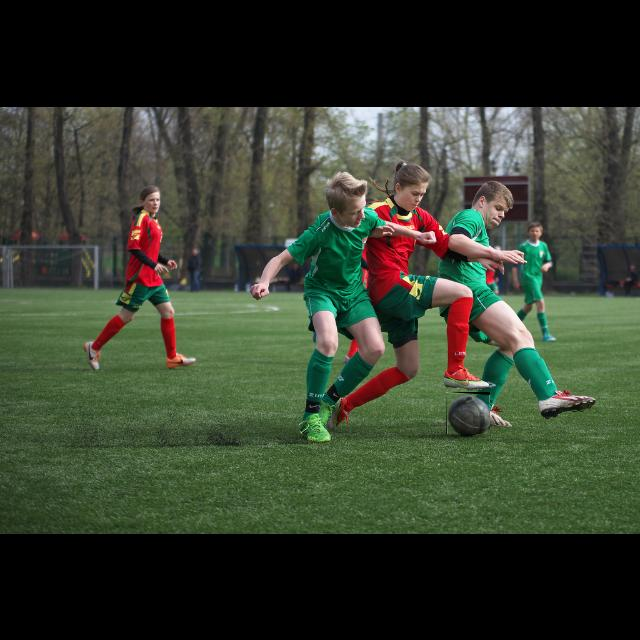Football: (446, 392, 490, 434)
